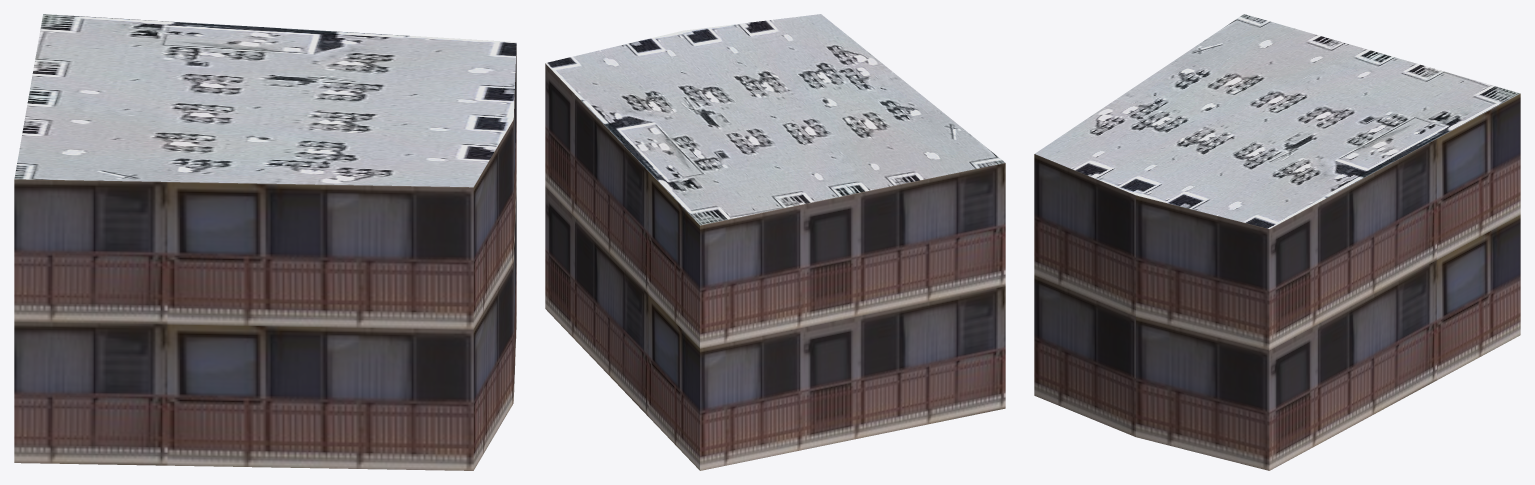
The model's file is ResTex__408.fbx.
3 views of the same model, side by side, from view 1: azimuth 30°, elevation 25°; view 2: azimuth 150°, elevation 25°; view 3: azimuth 270°, elevation 25° (orthographic). The views are drawn at different scales.
Parts seen in each view (by area): view 1: CityEngineMaterial_6_m, CityEngineMaterial_2_m; view 2: CityEngineMaterial_6_m, CityEngineMaterial_2_m; view 3: CityEngineMaterial_6_m, CityEngineMaterial_2_m.
Part boxes in pixels (box(x1,y1,x2,y2)): CityEngineMaterial_6_m: box(14, 46, 516, 470); CityEngineMaterial_2_m: box(14, 14, 516, 187); CityEngineMaterial_6_m: box(545, 63, 1005, 470); CityEngineMaterial_2_m: box(545, 14, 1005, 225); CityEngineMaterial_6_m: box(1034, 93, 1520, 470); CityEngineMaterial_2_m: box(1035, 14, 1519, 228).
Bounding box in the file's own units: 11.44 × 6 × 10.93.
2 materials, 2 textured.
